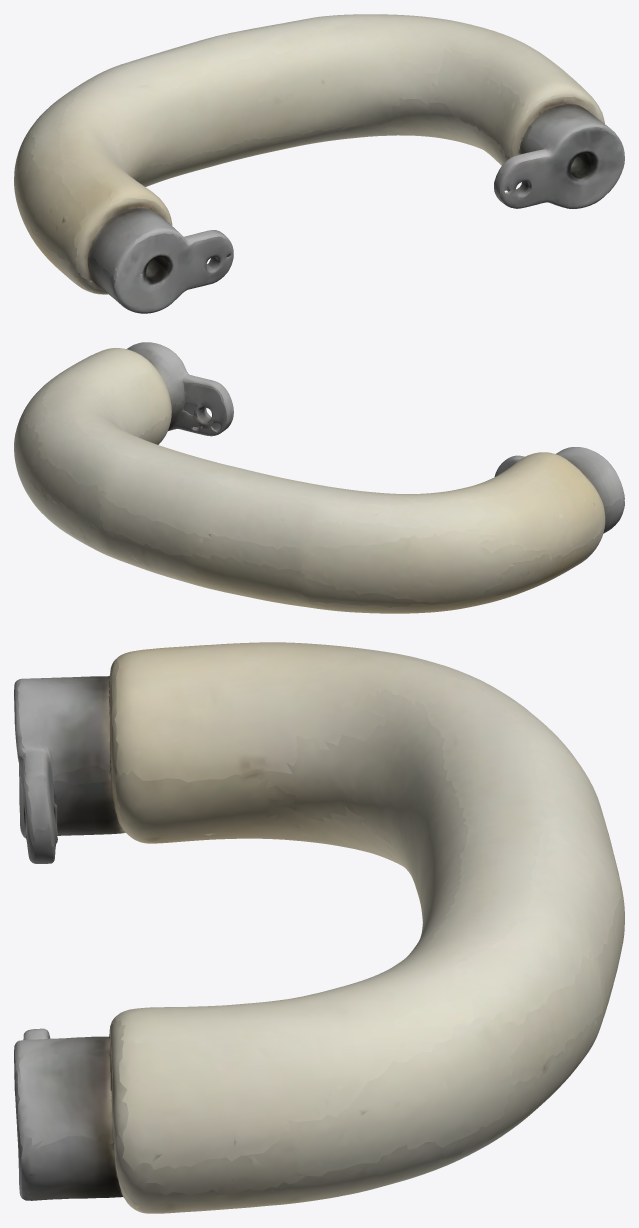
3 views of the same model, one above another, from view 1: azimuth 30°, elevation 25°; view 2: azimuth 150°, elevation 25°; view 3: azimuth 270°, elevation 25° (orthographic). The views are drawn at different scales.
Parts seen in each view (by area): view 1: geometry_0; view 2: geometry_0; view 3: geometry_0.
Part boxes in pixels (<box>): geometry_0: <box>14,14,624,313</box>; geometry_0: <box>14,342,624,613</box>; geometry_0: <box>14,642,624,1213</box>.
Size of the model in its own units: 0.16 by 0.0339 by 0.0913.
Materials: 1 (1 with a texture image).
